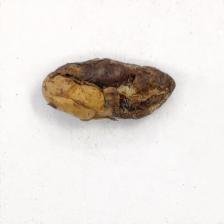NG: (42, 58, 175, 121)
